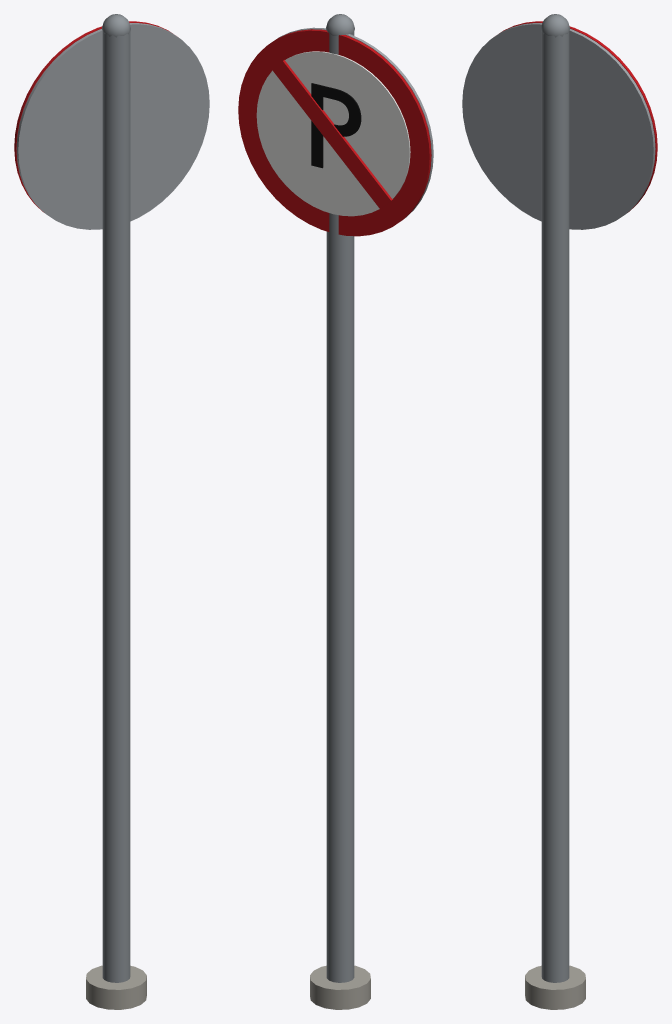
The model's file is Sign_NoParking.fbx.
The picture shows the model from 3 angles, left to right: view 1: azimuth 30°, elevation 25°; view 2: azimuth 150°, elevation 25°; view 3: azimuth 330°, elevation 25°; orthographic projection.
Visible parts, largest first — view 1: Sign_NoParking_Mesh; view 2: Sign_NoParking_Mesh; view 3: Sign_NoParking_Mesh.
Boxes of the visible parts, x1,y1,x2,y2 form: Sign_NoParking_Mesh: (14,14,209,1009); Sign_NoParking_Mesh: (238,14,433,1009); Sign_NoParking_Mesh: (462,14,657,1009).
Size of the model in its own units: 0.6 by 2.94 by 0.1672.
